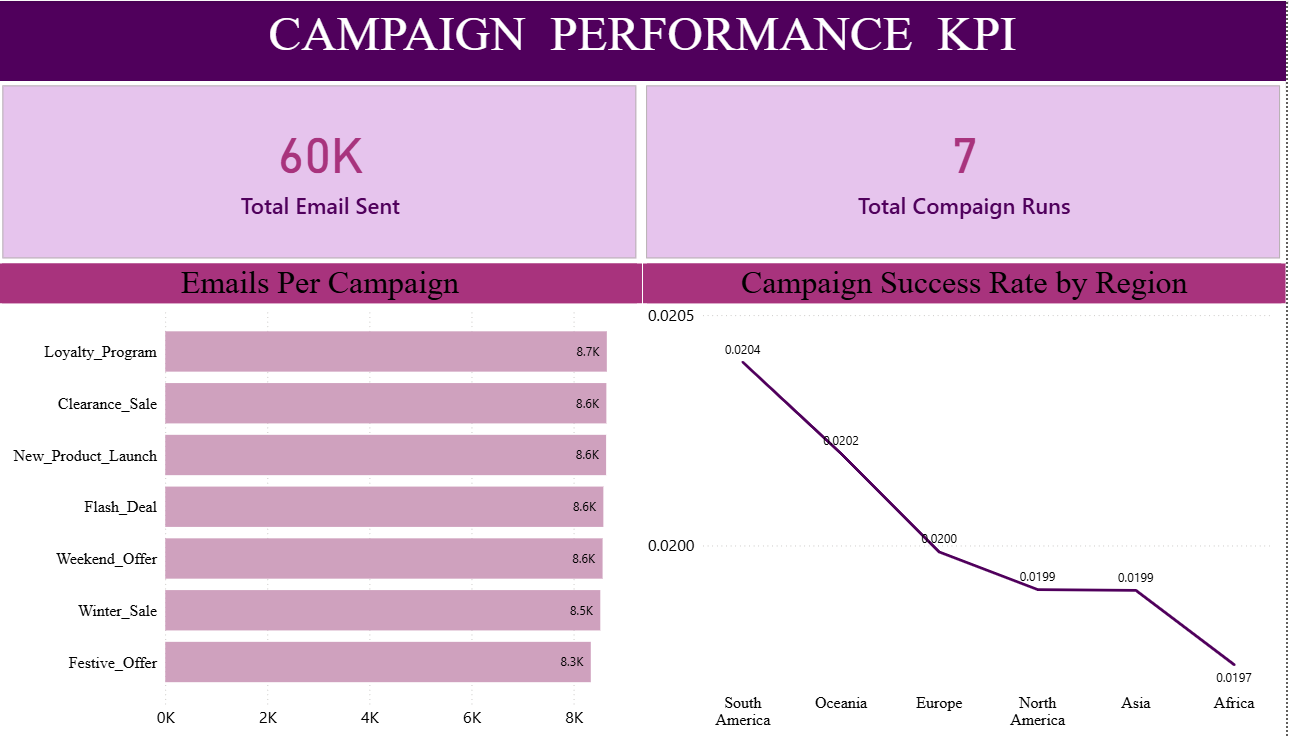

The dashboard page shown, as its layout file describes it:
{"tool":"powerbi","page":{"name":"Campaign Performance KPI","canvas":[1400,800],"ordinal":0},"visuals":[{"type":"textbox","box":[0,0,1400.8,87],"z":1000},{"type":"cardVisual","fields":{"Data":["Spam Detection Email.Total Email Sent"]},"box":[0,87,699.7,198.4],"z":2000},{"type":"cardVisual","fields":{"Data":["Spam Detection Email.Total Compaign Runs"]},"box":[699.7,87,699.7,198.4],"z":3000},{"type":"clusteredBarChart","title":"Emails  Per  Campaign","fields":{"Y":["Spam Detection Email.Total Email Sent"],"Category":["Spam Detection Email.Campaign_Name"]},"box":[0,285.3,699.7,514.9],"z":4000},{"type":"lineChart","fields":{"Y":["Spam Detection Email.Compaign Success Rate"],"Category":["Spam Detection Email.Region"]},"box":[701.1,285.3,698.4,514.9],"z":5000}]}

Visuals, with their boxes in screenshot pixels (x1, y1, x2, y2), scaled from the page's 1400x800 canvas onto the 1289x736 screenshot:
textbox: 0 0 1288 80
cardVisual - Spam Detection Email.Total Email Sent: 0 80 644 263
cardVisual - Spam Detection Email.Total Compaign Runs: 644 80 1288 263
"Emails  Per  Campaign" clusteredBarChart: 0 262 644 735
lineChart - Spam Detection Email.Compaign Success Rate x Spam Detection Email.Region: 646 262 1288 735
